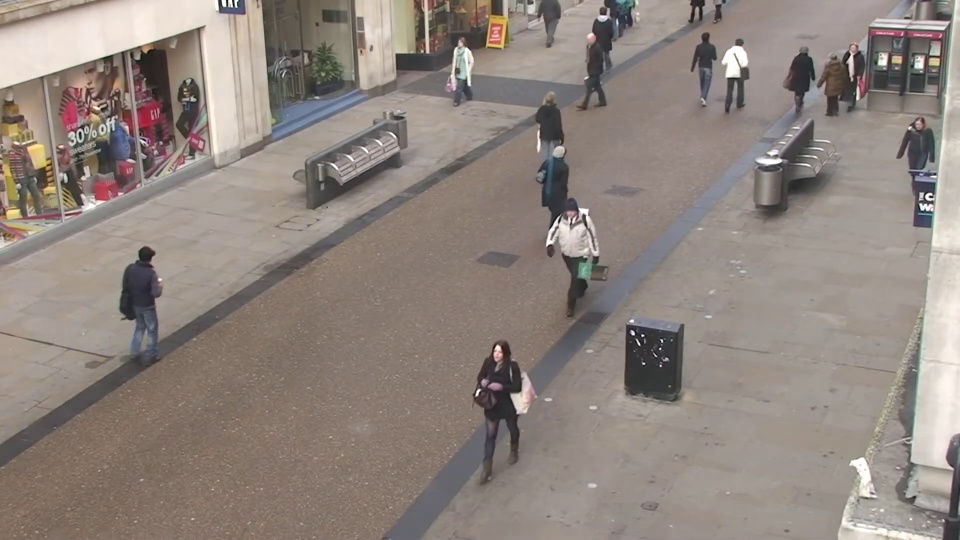pedestrian: (467, 337, 517, 490), (135, 234, 187, 358), (890, 115, 936, 214), (548, 197, 586, 316), (549, 139, 582, 242), (543, 88, 573, 176), (813, 48, 846, 128), (832, 40, 865, 119), (787, 39, 817, 116), (725, 31, 752, 104), (444, 34, 470, 107), (693, 26, 719, 98), (571, 33, 595, 106), (595, 3, 617, 68)
